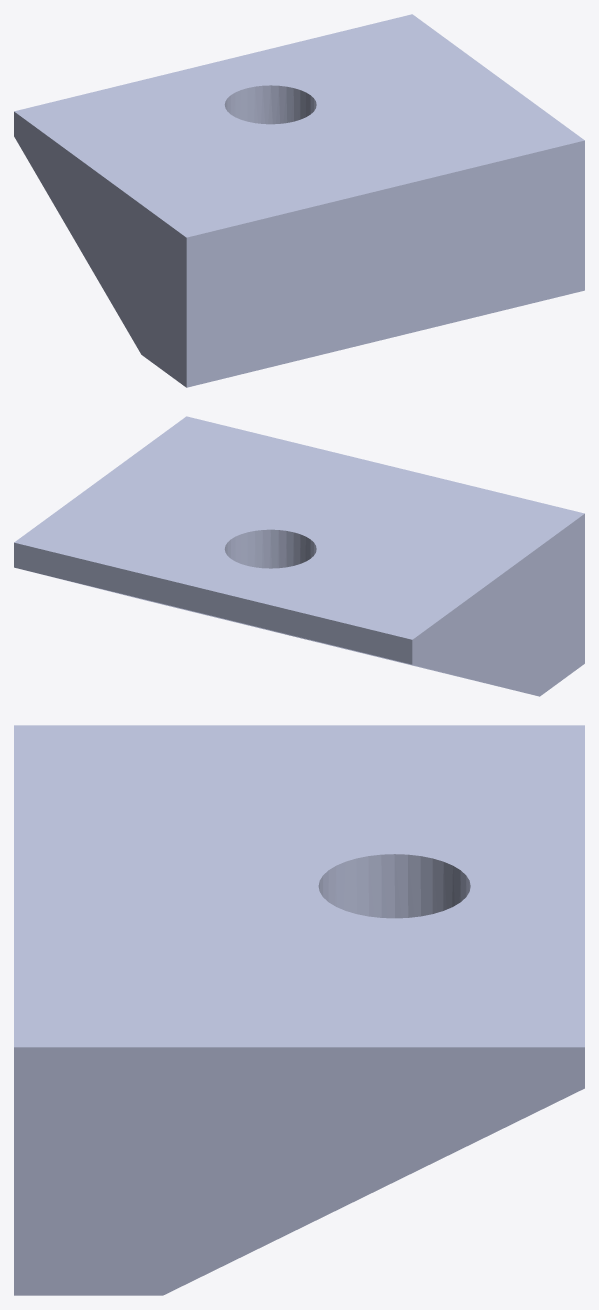
Rendered from zif-71k0-46416618.glb.
The picture shows the model from 3 angles, top to bottom: view 1: azimuth 30°, elevation 25°; view 2: azimuth 150°, elevation 25°; view 3: azimuth 270°, elevation 25°; orthographic projection. The views are drawn at different scales.
Parts seen in each view (by area): view 1: 46416618; view 2: 46416618; view 3: 46416618.
Boxes of the visible parts, bbox=[...] form: 46416618: bbox=[14, 14, 584, 387]; 46416618: bbox=[14, 416, 584, 696]; 46416618: bbox=[14, 725, 584, 1295].
Bounding box in the file's own units: 0.02 × 0.0072 × 0.015.
